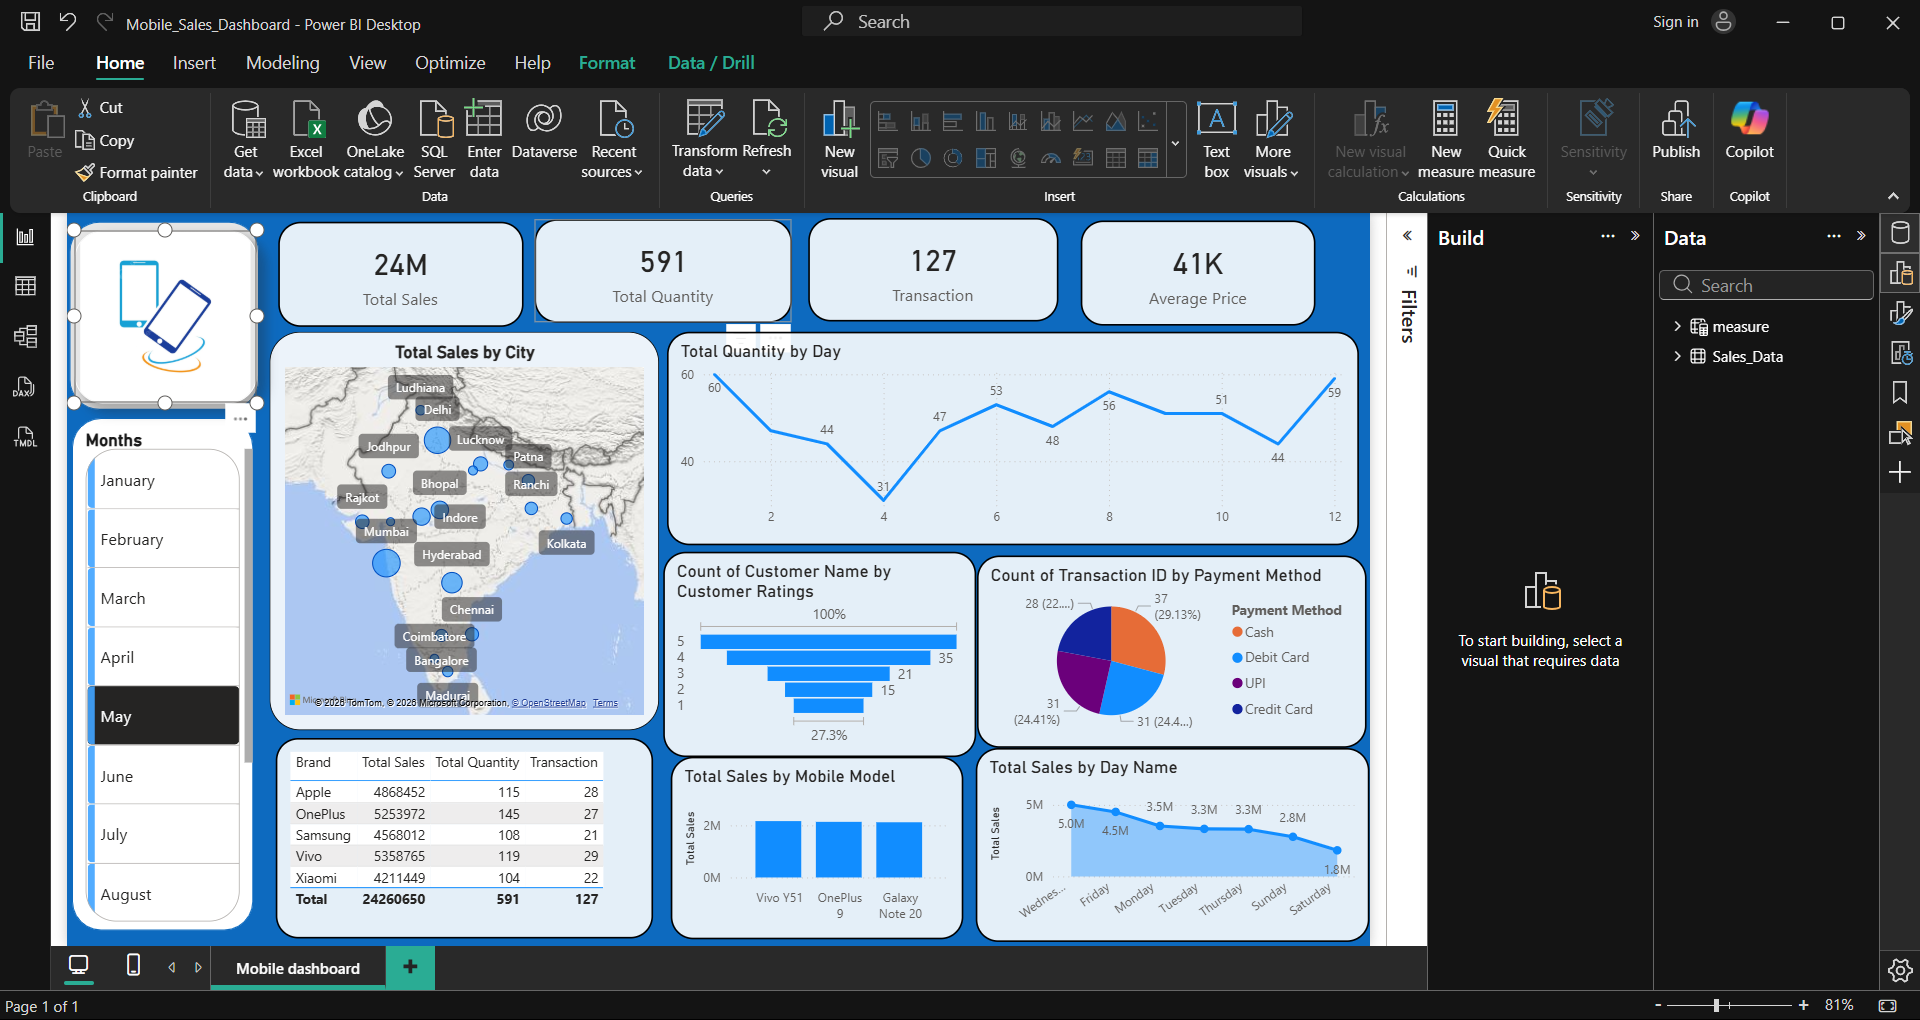

The dashboard page shown, as its layout file describes it:
{"tool":"powerbi","page":{"name":"Mobile dashboard","canvas":[1280,720],"ordinal":0},"visuals":[{"type":"shape","box":[2.9,8.7,186.1,184.7],"z":0},{"type":"shape","box":[4.9,201.2,177.9,503.1],"z":1000},{"type":"advancedSlicerVisual","title":"Months","fields":{"Values":["Sales_Data.Date.Variation.Date Hierarchy.Month"]},"box":[13,212.4,174.6,494.9],"z":2000},{"type":"card","fields":{"Values":["measure.Average Price"]},"box":[995.3,7.4,230.7,103.1],"z":3000},{"type":"card","fields":{"Values":["measure.Total Quantity"]},"box":[458.7,6.1,252.8,101.8],"z":4000},{"type":"card","fields":{"Values":["measure.Transaction"]},"box":[727.9,4.7,245.4,101.8],"z":5000},{"type":"card","fields":{"Values":["measure.Total Sales"]},"box":[207.1,8.1,240.5,103.1],"z":6000},{"type":"map","fields":{"Category":["Sales_Data.City"],"Size":["measure.Total Sales"]},"box":[198.8,117.2,382.3,391],"z":7000},{"type":"lineChart","fields":{"Y":["measure.Total Quantity"],"Category":["Sales_Data.Date.Variation.Date Hierarchy.Month","Sales_Data.Date.Variation.Date Hierarchy.Day"]},"box":[588.4,117.2,679.5,209.2],"z":8000},{"type":"lineClusteredColumnComboChart","fields":{"Category":["Sales_Data.Mobile Model"],"Y":["measure.Total Sales"]},"box":[592.6,533.7,287.4,178.9],"z":9000},{"type":"pieChart","fields":{"Category":["Sales_Data.Payment Method"],"Y":["CountNonNull(Sales_Data.Transaction ID)"]},"box":[893.1,336.7,382.3,188.4],"z":10000},{"type":"funnel","fields":{"Category":["Sales_Data.Customer Ratings"],"Y":["CountNonNull(Sales_Data.Customer Name)"]},"box":[585.2,332.1,307.3,202],"z":11000},{"type":"areaChart","fields":{"Category":["Sales_Data.Day Name"],"Y":["measure.Total Sales"]},"box":[891.6,525.2,386.7,190.4],"z":12000},{"type":"image","box":[7.4,17.2,179.1,169.3],"z":12500},{"type":"tableEx","fields":{"Values":["Sales_Data.Brand","measure.Total Sales","measure.Total Quantity","measure.Transaction"]},"box":[204.9,515.6,370.8,197.1],"z":13000}]}

Visuals, with their boxes on the page's 1280x720 design canvas (x1, y1, x2, y2). These are canvas units, not pixel positions in the 1920x1020 screenshot, which may show the page scaled, cropped or inside an application window:
shape: (3, 9, 189, 193)
shape: (5, 201, 183, 704)
"Months" advancedSlicerVisual: (13, 212, 188, 707)
card - measure.Average Price: (995, 7, 1226, 110)
card - measure.Total Quantity: (459, 6, 712, 108)
card - measure.Transaction: (728, 5, 973, 106)
card - measure.Total Sales: (207, 8, 448, 111)
map - Sales_Data.City x measure.Total Sales: (199, 117, 581, 508)
lineChart - measure.Total Quantity x Sales_Data.Date.Variation.Date Hierarchy.Month: (588, 117, 1268, 326)
lineClusteredColumnComboChart - Sales_Data.Mobile Model x measure.Total Sales: (593, 534, 880, 713)
pieChart - Sales_Data.Payment Method x CountNonNull(Sales_Data.Transaction ID): (893, 337, 1275, 525)
funnel - Sales_Data.Customer Ratings x CountNonNull(Sales_Data.Customer Name): (585, 332, 892, 534)
areaChart - Sales_Data.Day Name x measure.Total Sales: (892, 525, 1278, 716)
image: (7, 17, 186, 186)
tableEx - Sales_Data.Brand x measure.Total Sales: (205, 516, 576, 713)
